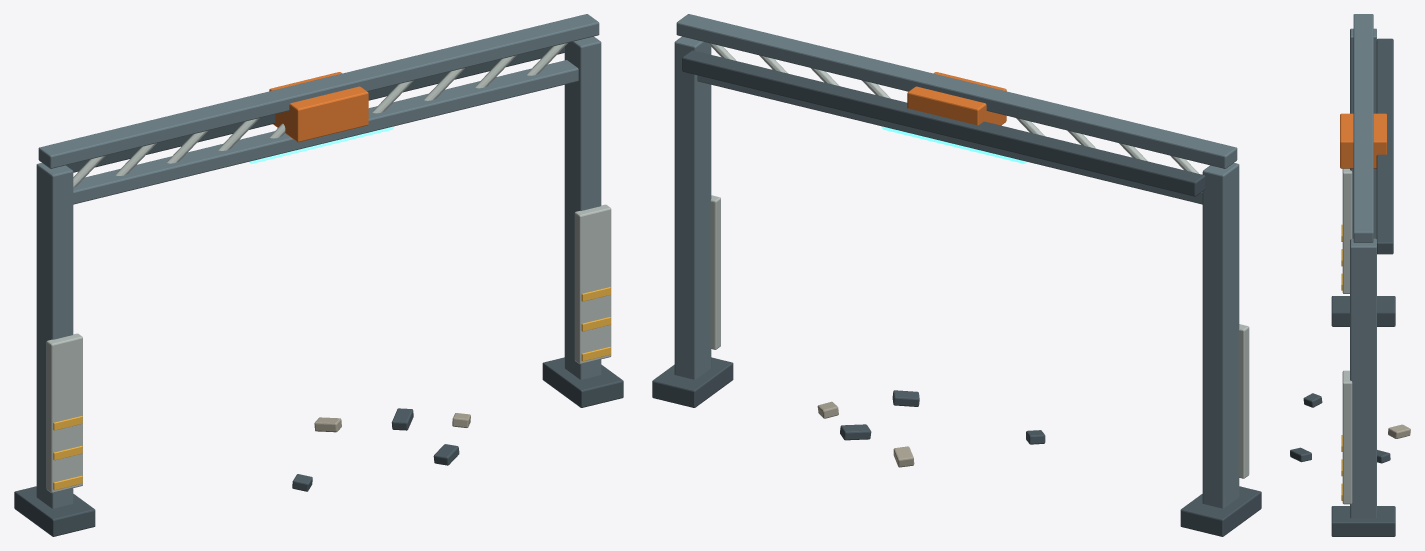
The model's file is gantry_module_d1.glb.
The picture shows the model from 3 angles, left to right: view 1: azimuth 30°, elevation 25°; view 2: azimuth 150°, elevation 25°; view 3: azimuth 270°, elevation 25°; orthographic projection. The views are drawn at different scales.
Parts seen in each view (by area): view 1: Gantry truss chord.015, Gantry truss chord.014, Gantry column.026, Gantry column.027, Column armor.027, Column armor.026, Overhead carriage.007, Cable tray.007, Gantry footing.027, Gantry footing.026; view 2: Gantry truss chord.015, Gantry column.026, Cable tray.007, Gantry column.027, Gantry truss chord.014, Overhead carriage.007, Gantry footing.027, Gantry footing.026, Column armor.026, Column armor.027; view 3: Gantry column.027, Gantry truss chord.015, Cable tray.007, Gantry footing.027, Column armor.027, Overhead carriage.007, Column armor.026, Gantry footing.026, Gantry column.026, Debris fragment.081, Debris fragment.084, Debris fragment.080.
Part boxes in pixels (x1,y1,x2,y2): Gantry truss chord.015: (38, 14, 599, 168); Gantry truss chord.014: (73, 60, 578, 204); Gantry column.026: (36, 163, 73, 508); Gantry column.027: (564, 36, 601, 379); Column armor.027: (574, 204, 611, 364); Column armor.026: (46, 333, 82, 493); Overhead carriage.007: (269, 72, 368, 142); Cable tray.007: (66, 46, 564, 172); Gantry footing.027: (542, 357, 623, 407); Gantry footing.026: (14, 486, 95, 536); Gantry truss chord.015: (676, 14, 1237, 168); Gantry column.026: (1202, 163, 1239, 508); Cable tray.007: (682, 50, 1205, 196); Gantry column.027: (674, 36, 711, 379); Gantry truss chord.014: (697, 75, 1231, 208); Overhead carriage.007: (907, 72, 1006, 125); Gantry footing.027: (652, 357, 733, 407); Gantry footing.026: (1180, 486, 1261, 536); Column armor.026: (1238, 324, 1249, 478); Column armor.027: (710, 195, 720, 349); Gantry column.027: (1350, 238, 1376, 518); Gantry truss chord.015: (1353, 14, 1373, 242); Cable tray.007: (1376, 38, 1393, 254); Gantry footing.027: (1331, 506, 1395, 536); Column armor.027: (1342, 370, 1352, 504); Overhead carriage.007: (1340, 113, 1386, 168); Column armor.026: (1342, 168, 1352, 293); Gantry footing.026: (1331, 296, 1395, 326); Gantry column.026: (1350, 28, 1376, 238); Debris fragment.081: (1388, 424, 1410, 438); Debris fragment.084: (1290, 447, 1311, 462); Debris fragment.080: (1303, 393, 1322, 407).
Bounding box in the file's own units: 8 × 4.95 × 1.8.
